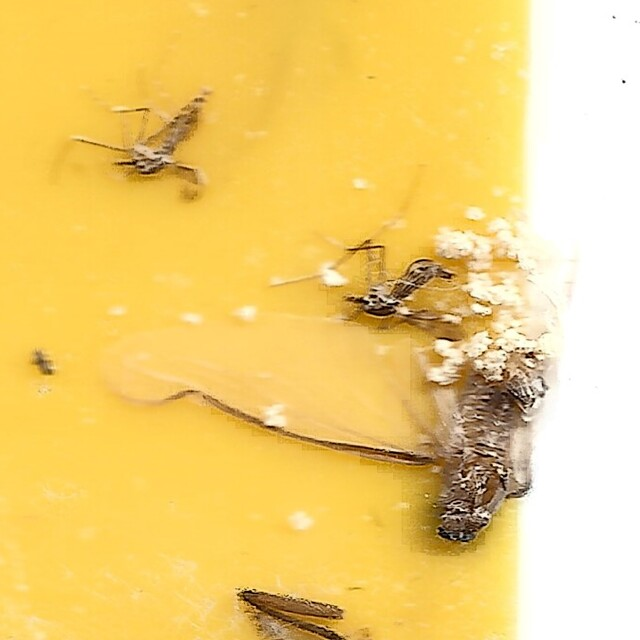Ephemeroptera: (95, 308, 545, 557)
Nematocera: (120, 83, 213, 194), (341, 251, 459, 327)
